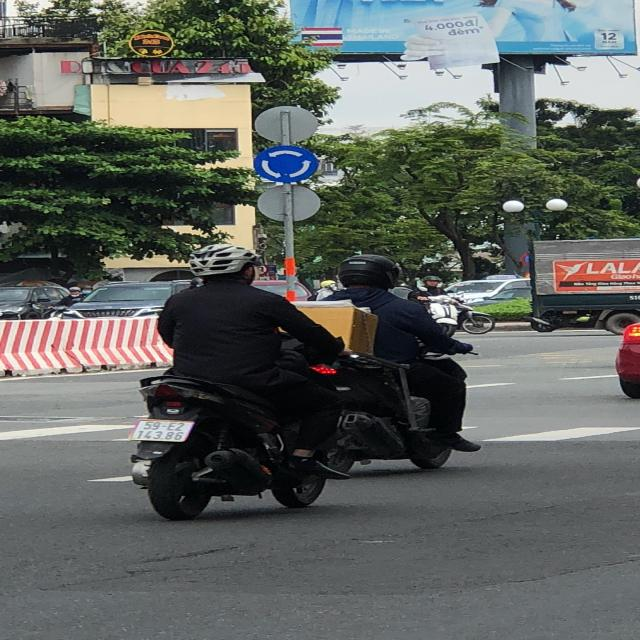Bien bao noi giao nhau chay theo vong xuyen: (251, 144, 315, 184)
